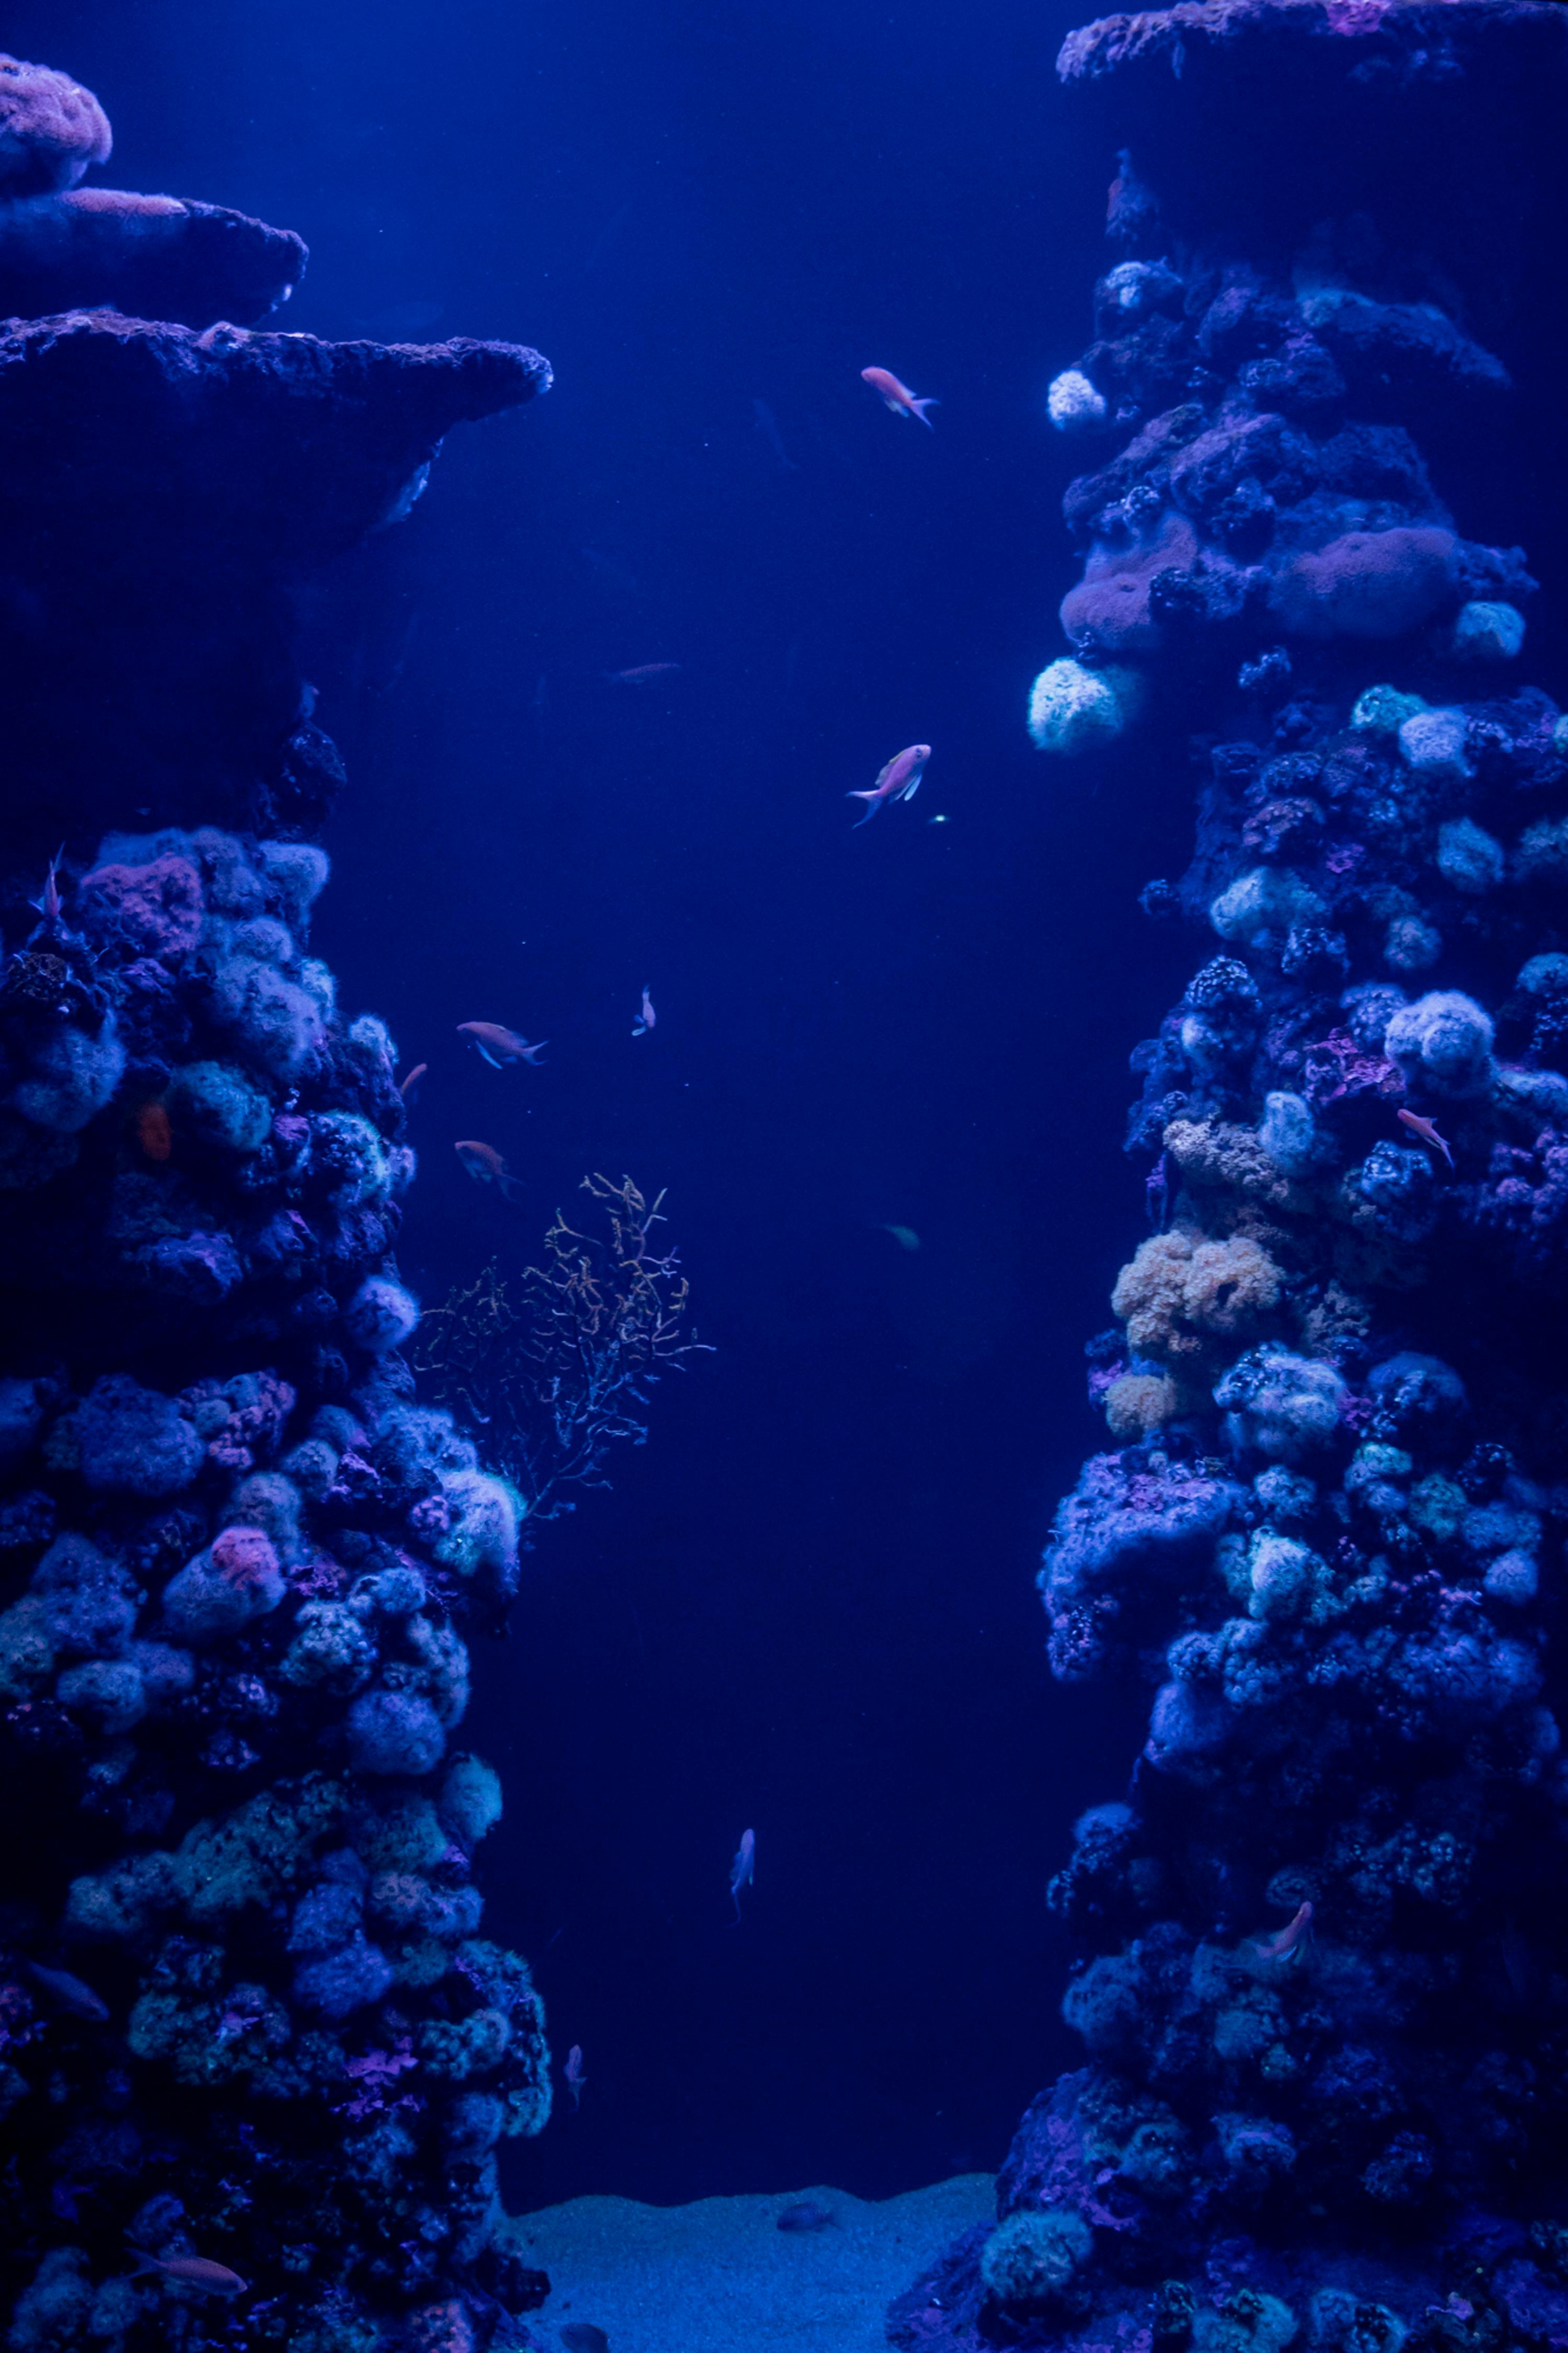fishSmall: (845, 740, 936, 834), (455, 1008, 556, 1072), (448, 1130, 535, 1202), (856, 364, 940, 430), (723, 1826, 766, 1924)
